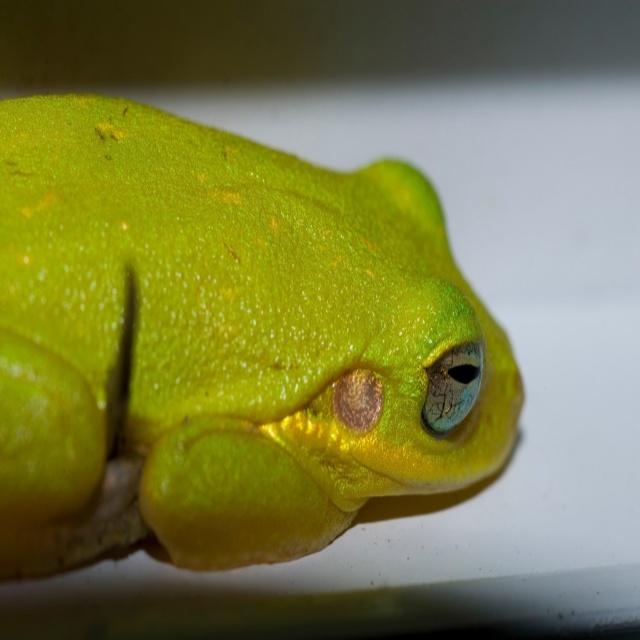Frog: (0, 90, 528, 582)
